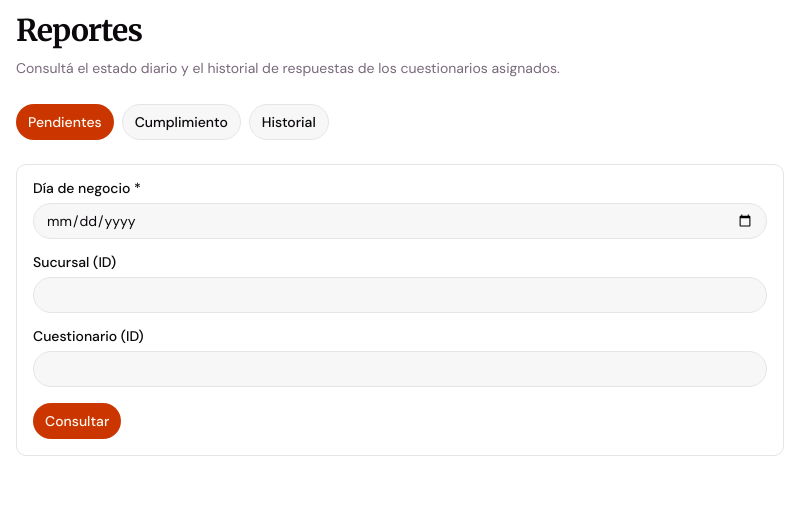
Test: ReportsView — validación de fecha real y rango › bloquea la consulta y marca el control cuando falta una fecha requerida
Submit pending with an empty (non-real) businessDay.
Click the button "Consultar" at (77, 421), box [33,403,121,439]
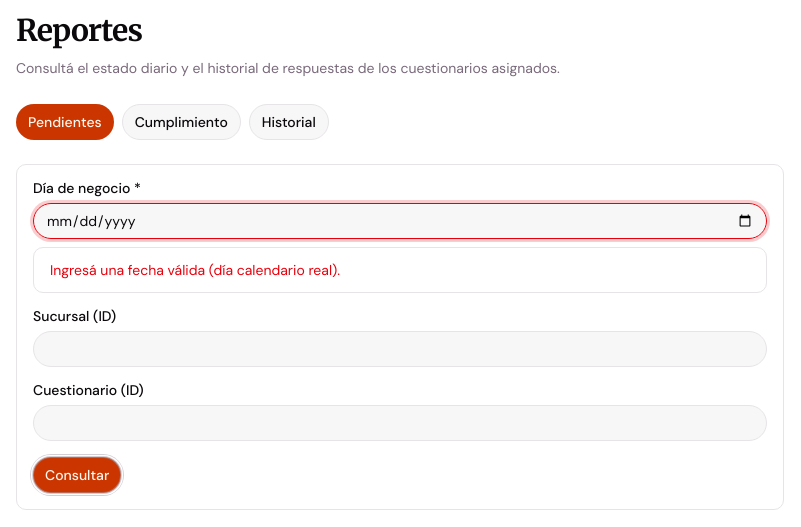
Expected: the text "Ingresá una fecha válida (día calendario real)." is shown, [33,247,767,293]
